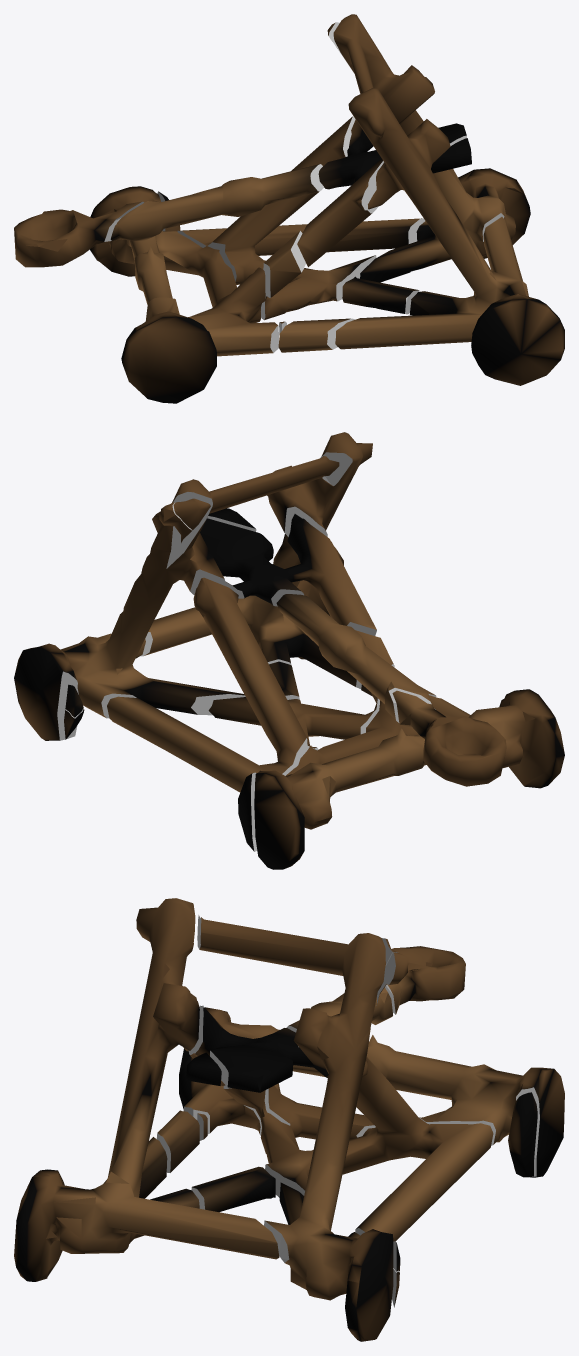
Rendered from Catapult.glb.
The picture shows the model from 3 angles, top to bottom: view 1: azimuth 30°, elevation 25°; view 2: azimuth 150°, elevation 25°; view 3: azimuth 270°, elevation 25°; orthographic projection. The views are drawn at different scales.
Visible parts, largest first — view 1: Root.009, Root, Root.002, Root.006, Root.008, Root.001, Root.011, Root.010, Root.012; view 2: Root.002, Root, Root.006, Root.009, Root.001, Root.008, Root.005, Root.013, Root.011, Root.012; view 3: Root.002, Root.009, Root, Root.006, Root.001, Root.011, Root.005, Root.010, Root.008, Root.012, Root.003.
Part boxes in pixels (x1,y1,x2,y2): Root.009: (335,88,564,385); Root: (90,186,278,403); Root.002: (297,14,530,282); Root.006: (177,116,425,320); Root.008: (110,164,324,240); Root.001: (14,201,144,267); Root.011: (342,276,419,314); Root.010: (278,318,354,352); Root.012: (431,138,471,173); Root.002: (14,456,376,740); Root: (254,689,564,869); Root.006: (107,577,394,792); Root.009: (140,432,372,688); Root.001: (392,690,506,786); Root.008: (276,594,435,722); Root.005: (238,772,257,851); Root.013: (173,498,210,529); Root.011: (269,661,299,699); Root.012: (207,508,256,531); Root.002: (188,915,393,1341); Root.009: (14,898,279,1281); Root: (179,1007,564,1177); Root.006: (223,1057,493,1241); Root.001: (385,946,465,1014); Root.011: (191,1166,275,1212); Root.005: (508,1092,537,1177); Root.010: (156,1110,199,1172); Root.008: (286,987,392,1047); Root.012: (185,1052,221,1085); Root.003: (376,952,408,1005).
Bounding box in the file's own units: 2.79 × 1.51 × 2.3.
